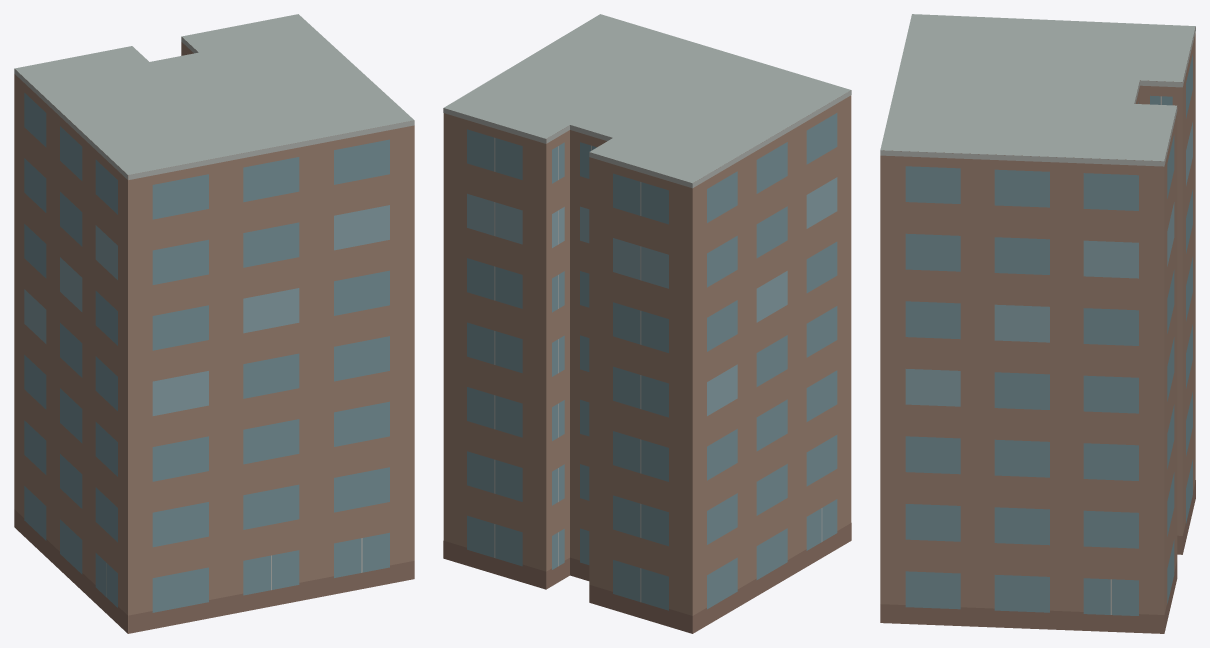
File: survey-upis-32658360.glb
3 renders of one model, left to right at view 1: azimuth 30°, elevation 25°; view 2: azimuth 150°, elevation 25°; view 3: azimuth 270°, elevation 25°, orthographic. The views are drawn at different scales.
Visible parts, largest first — view 1: survey-upis-32658360.tmp; view 2: survey-upis-32658360.tmp; view 3: survey-upis-32658360.tmp.
Boxes of the visible parts, x1=… form: survey-upis-32658360.tmp: x1=14, y1=14, x2=414, y2=633; survey-upis-32658360.tmp: x1=443, y1=14, x2=851, y2=633; survey-upis-32658360.tmp: x1=880, y1=14, x2=1195, y2=633.
Size of the model in its own units: 14.57 by 21.8 by 13.2.
